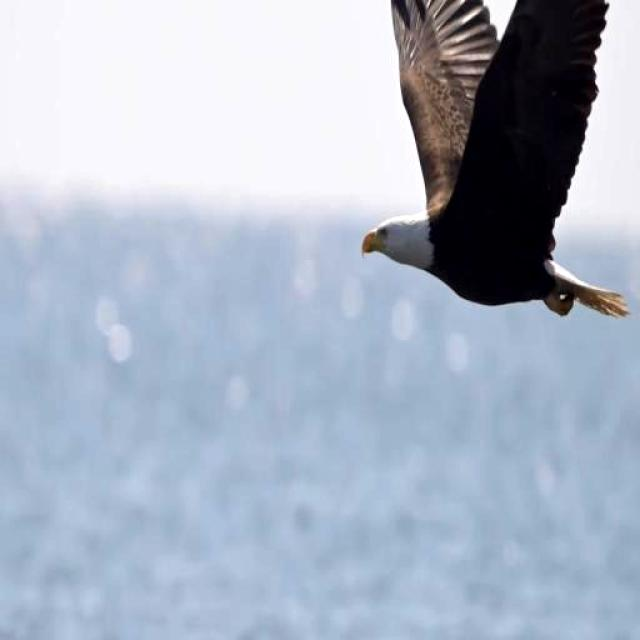airplane: (344, 0, 640, 349)
